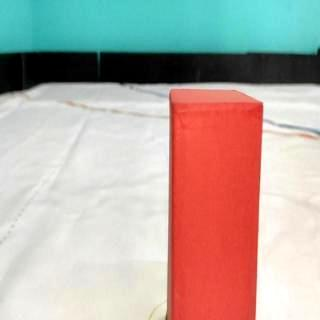redbox: (171, 89, 257, 320)
